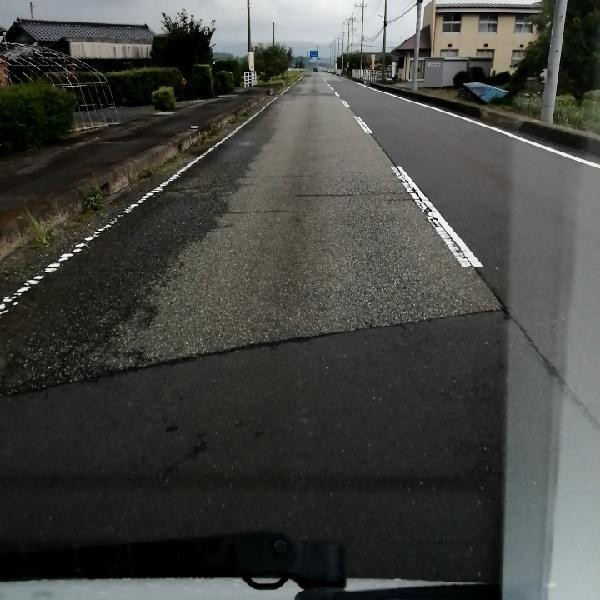D10: (289, 184, 400, 204), (217, 197, 293, 220)
